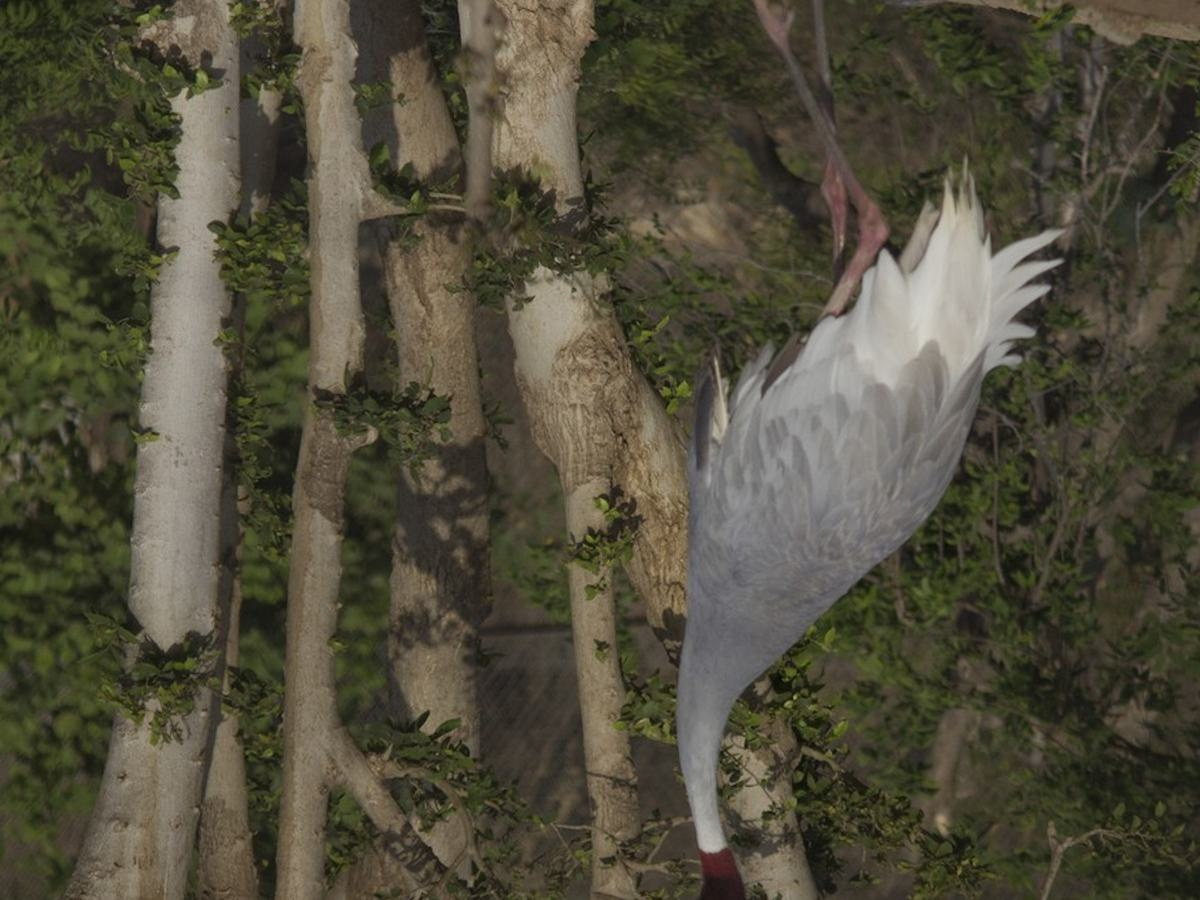crane: (660, 16, 1090, 900)
